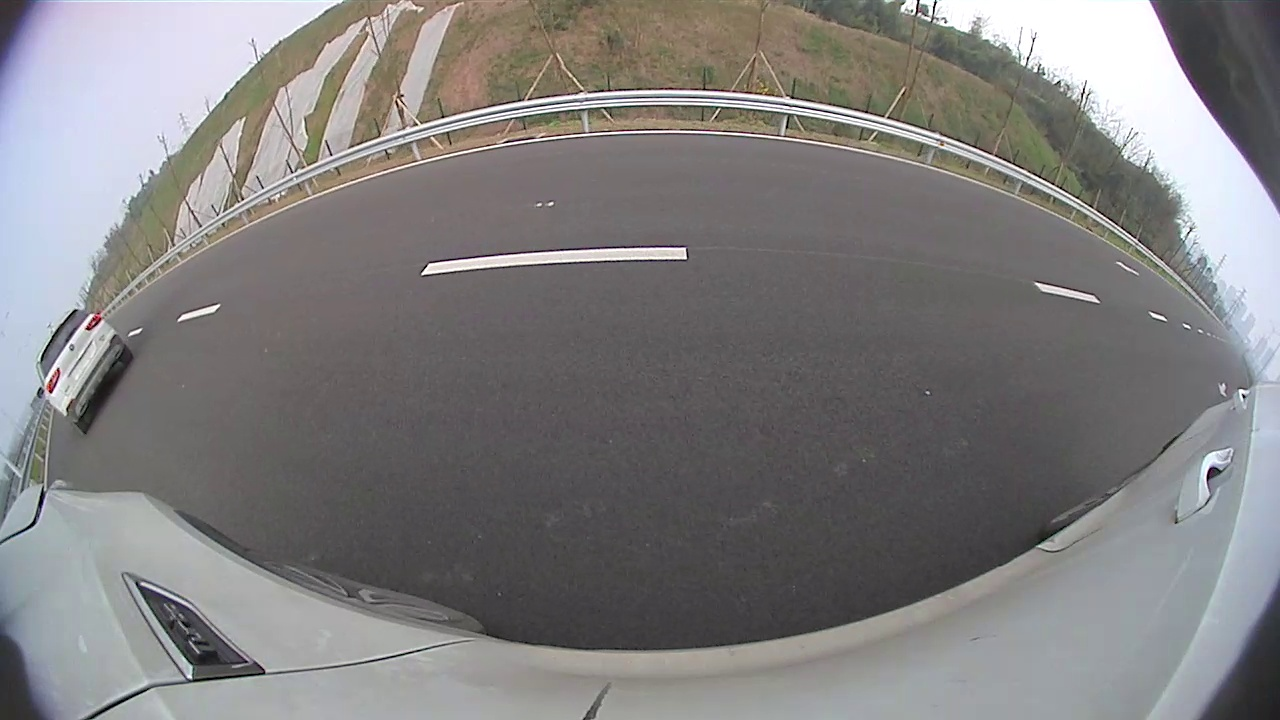car: (34, 308, 133, 435)
